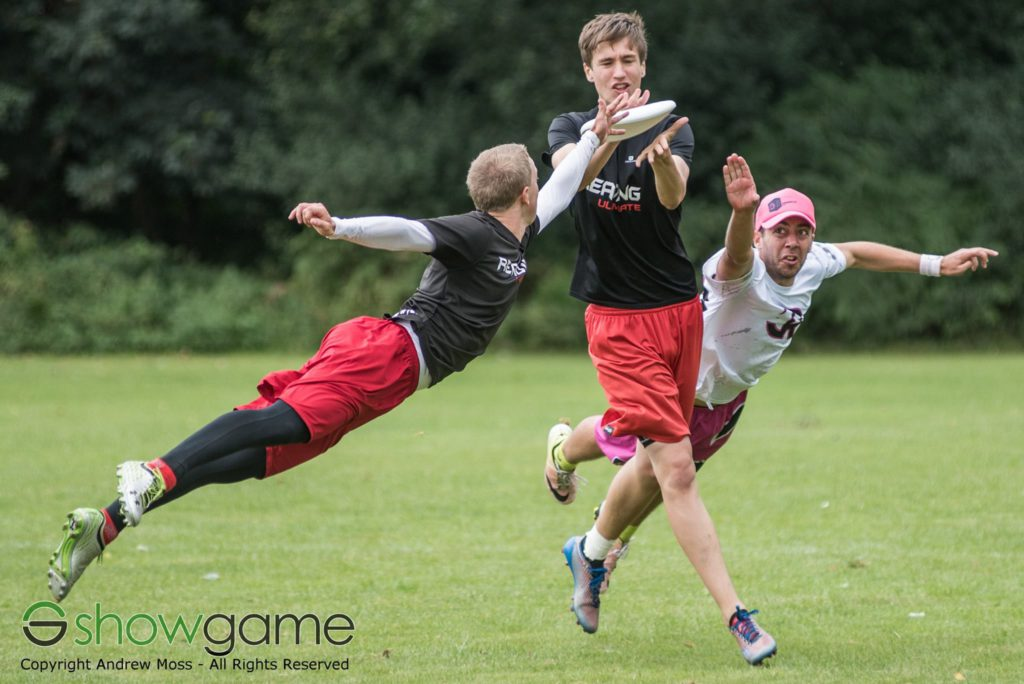disc: (575, 102, 687, 140)
